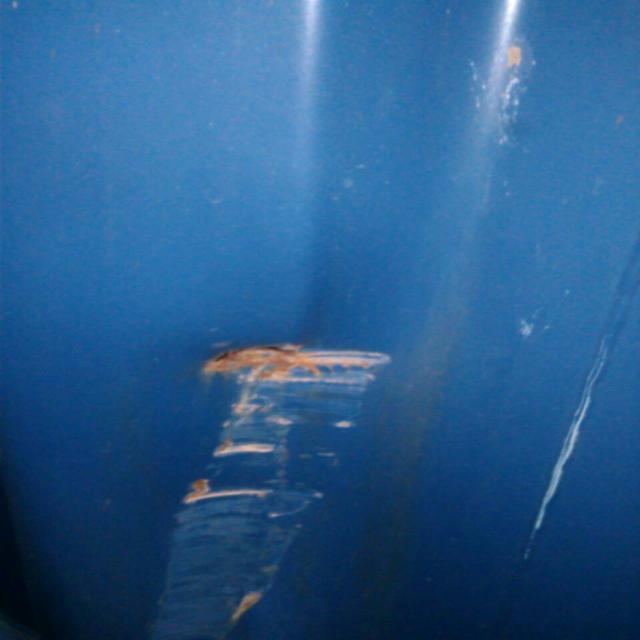dent: (190, 335, 403, 398), (178, 474, 281, 512), (210, 439, 287, 464)
